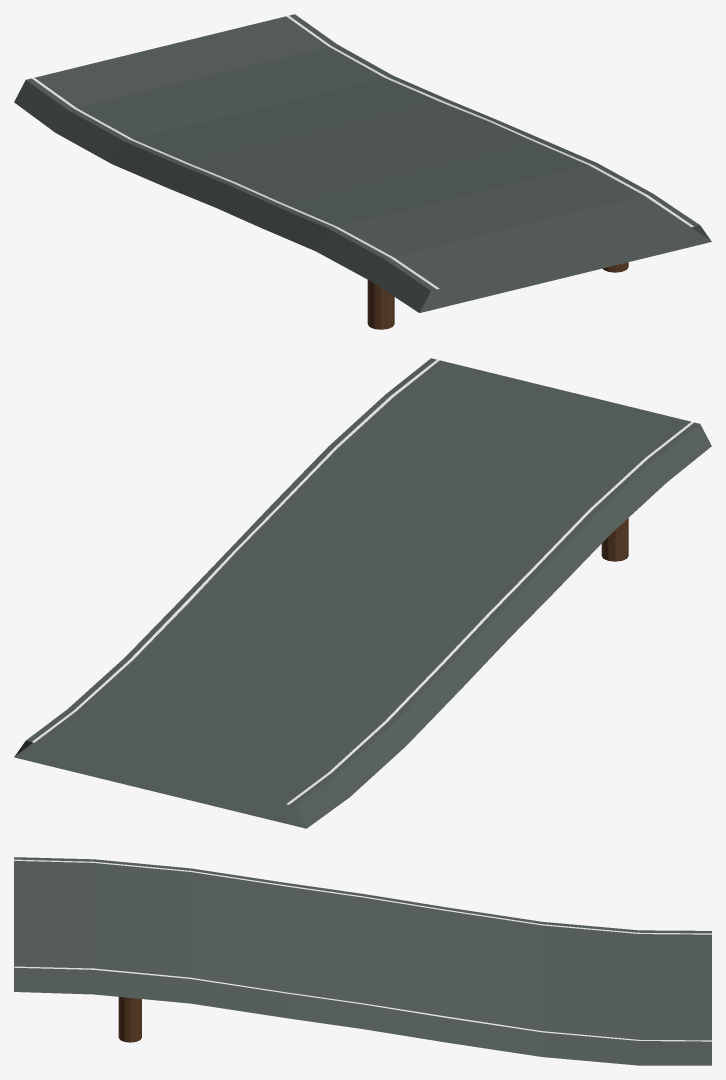
The model's file is Straight_Bridge.fbx.
3 renders of one model, top to bottom at view 1: azimuth 30°, elevation 25°; view 2: azimuth 150°, elevation 25°; view 3: azimuth 270°, elevation 25°, orthographic. The views are drawn at different scales.
Parts seen in each view (by area): view 1: Plane; view 2: Plane; view 3: Plane.
Part boxes in pixels (<box>): Plane: <box>14,14,711,329</box>; Plane: <box>14,358,711,828</box>; Plane: <box>14,857,711,1065</box>.
Size of the model in its own units: 25.16 by 8.6 by 60.
